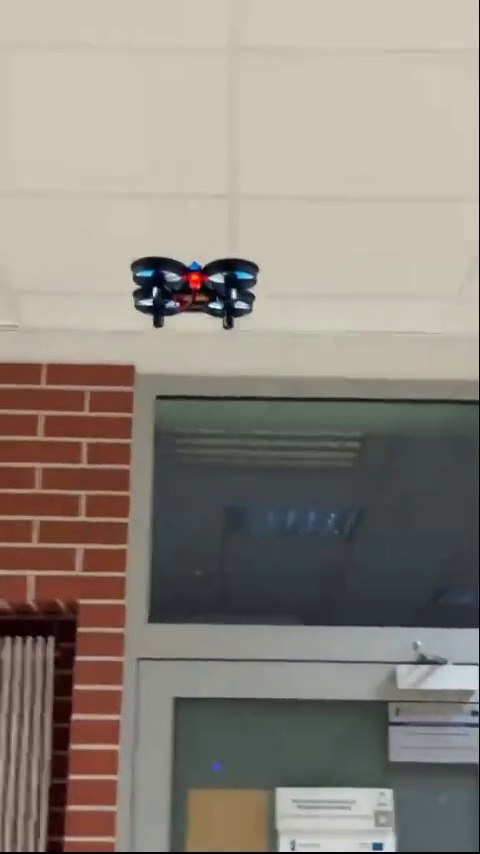drone: (125, 251, 265, 336)
